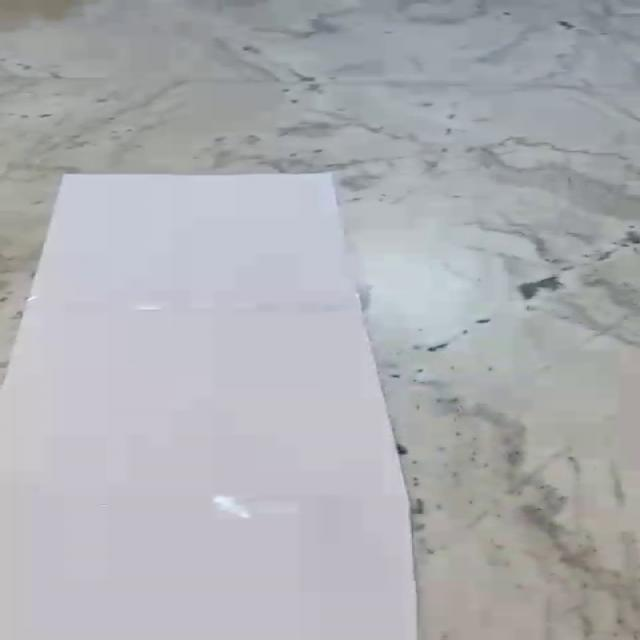road: (0, 173, 417, 640)
